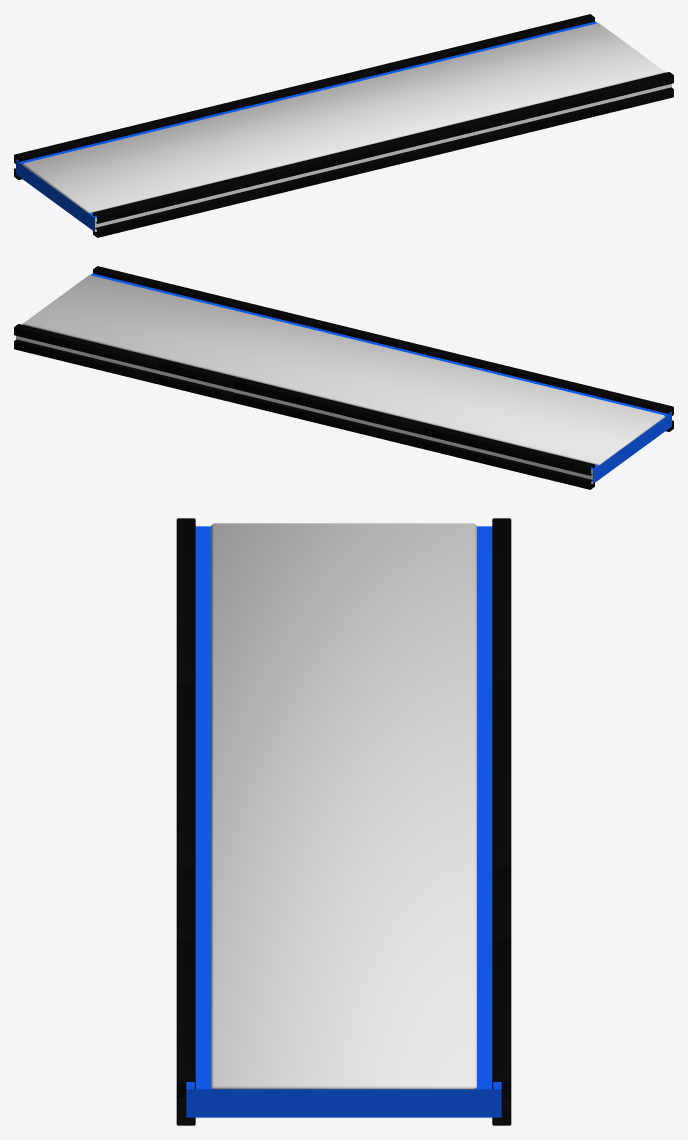
File: LevelRework_Lobby_FloorAisleBase.fbx
The picture shows the model from 3 angles, top to bottom: view 1: azimuth 30°, elevation 25°; view 2: azimuth 150°, elevation 25°; view 3: azimuth 270°, elevation 25°; orthographic projection. The views are drawn at different scales.
Parts seen in each view (by area): view 1: Lobby_FloorAisleCoating, Lobby_FloorAisleSides, Lobby_FloorAisleBase; view 2: Lobby_FloorAisleCoating, Lobby_FloorAisleSides, Lobby_FloorAisleBase; view 3: Lobby_FloorAisleCoating, Lobby_FloorAisleBase, Lobby_FloorAisleSides.
Boxes of the visible parts, left/top/right/bottom form: Lobby_FloorAisleCoating: left=23, top=23, right=664, bottom=213; Lobby_FloorAisleSides: left=14, top=14, right=673, bottom=237; Lobby_FloorAisleBase: left=16, top=21, right=671, bottom=231; Lobby_FloorAisleCoating: left=23, top=275, right=664, bottom=465; Lobby_FloorAisleSides: left=14, top=266, right=673, bottom=489; Lobby_FloorAisleBase: left=16, top=273, right=671, bottom=483; Lobby_FloorAisleCoating: left=211, top=523, right=476, bottom=1089; Lobby_FloorAisleBase: left=186, top=526, right=501, bottom=1117; Lobby_FloorAisleSides: left=176, top=518, right=511, bottom=1125.
Size of the model in its own units: 513 by 19.17 by 129.
